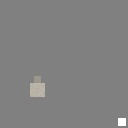supply_truck: (30, 83, 45, 97)
